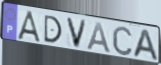A: (131, 28, 160, 63), (16, 10, 44, 45), (86, 21, 113, 55)
C: (111, 25, 134, 57)
D: (43, 14, 64, 45)
V: (65, 16, 88, 50)
